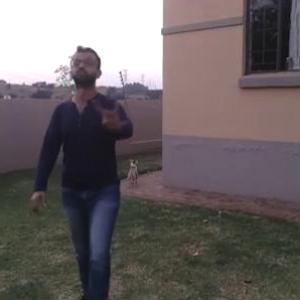takeoff-hand: (92, 94, 125, 130)
